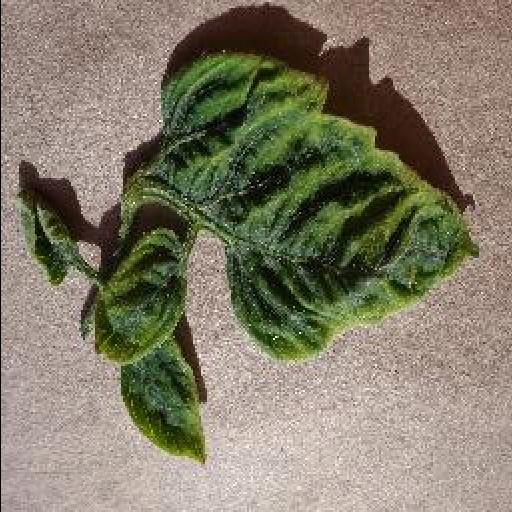disease_tomato: (158, 56, 476, 366), (85, 230, 195, 368)
